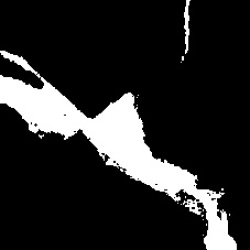crack: (1, 51, 236, 250), (181, 2, 190, 63)
